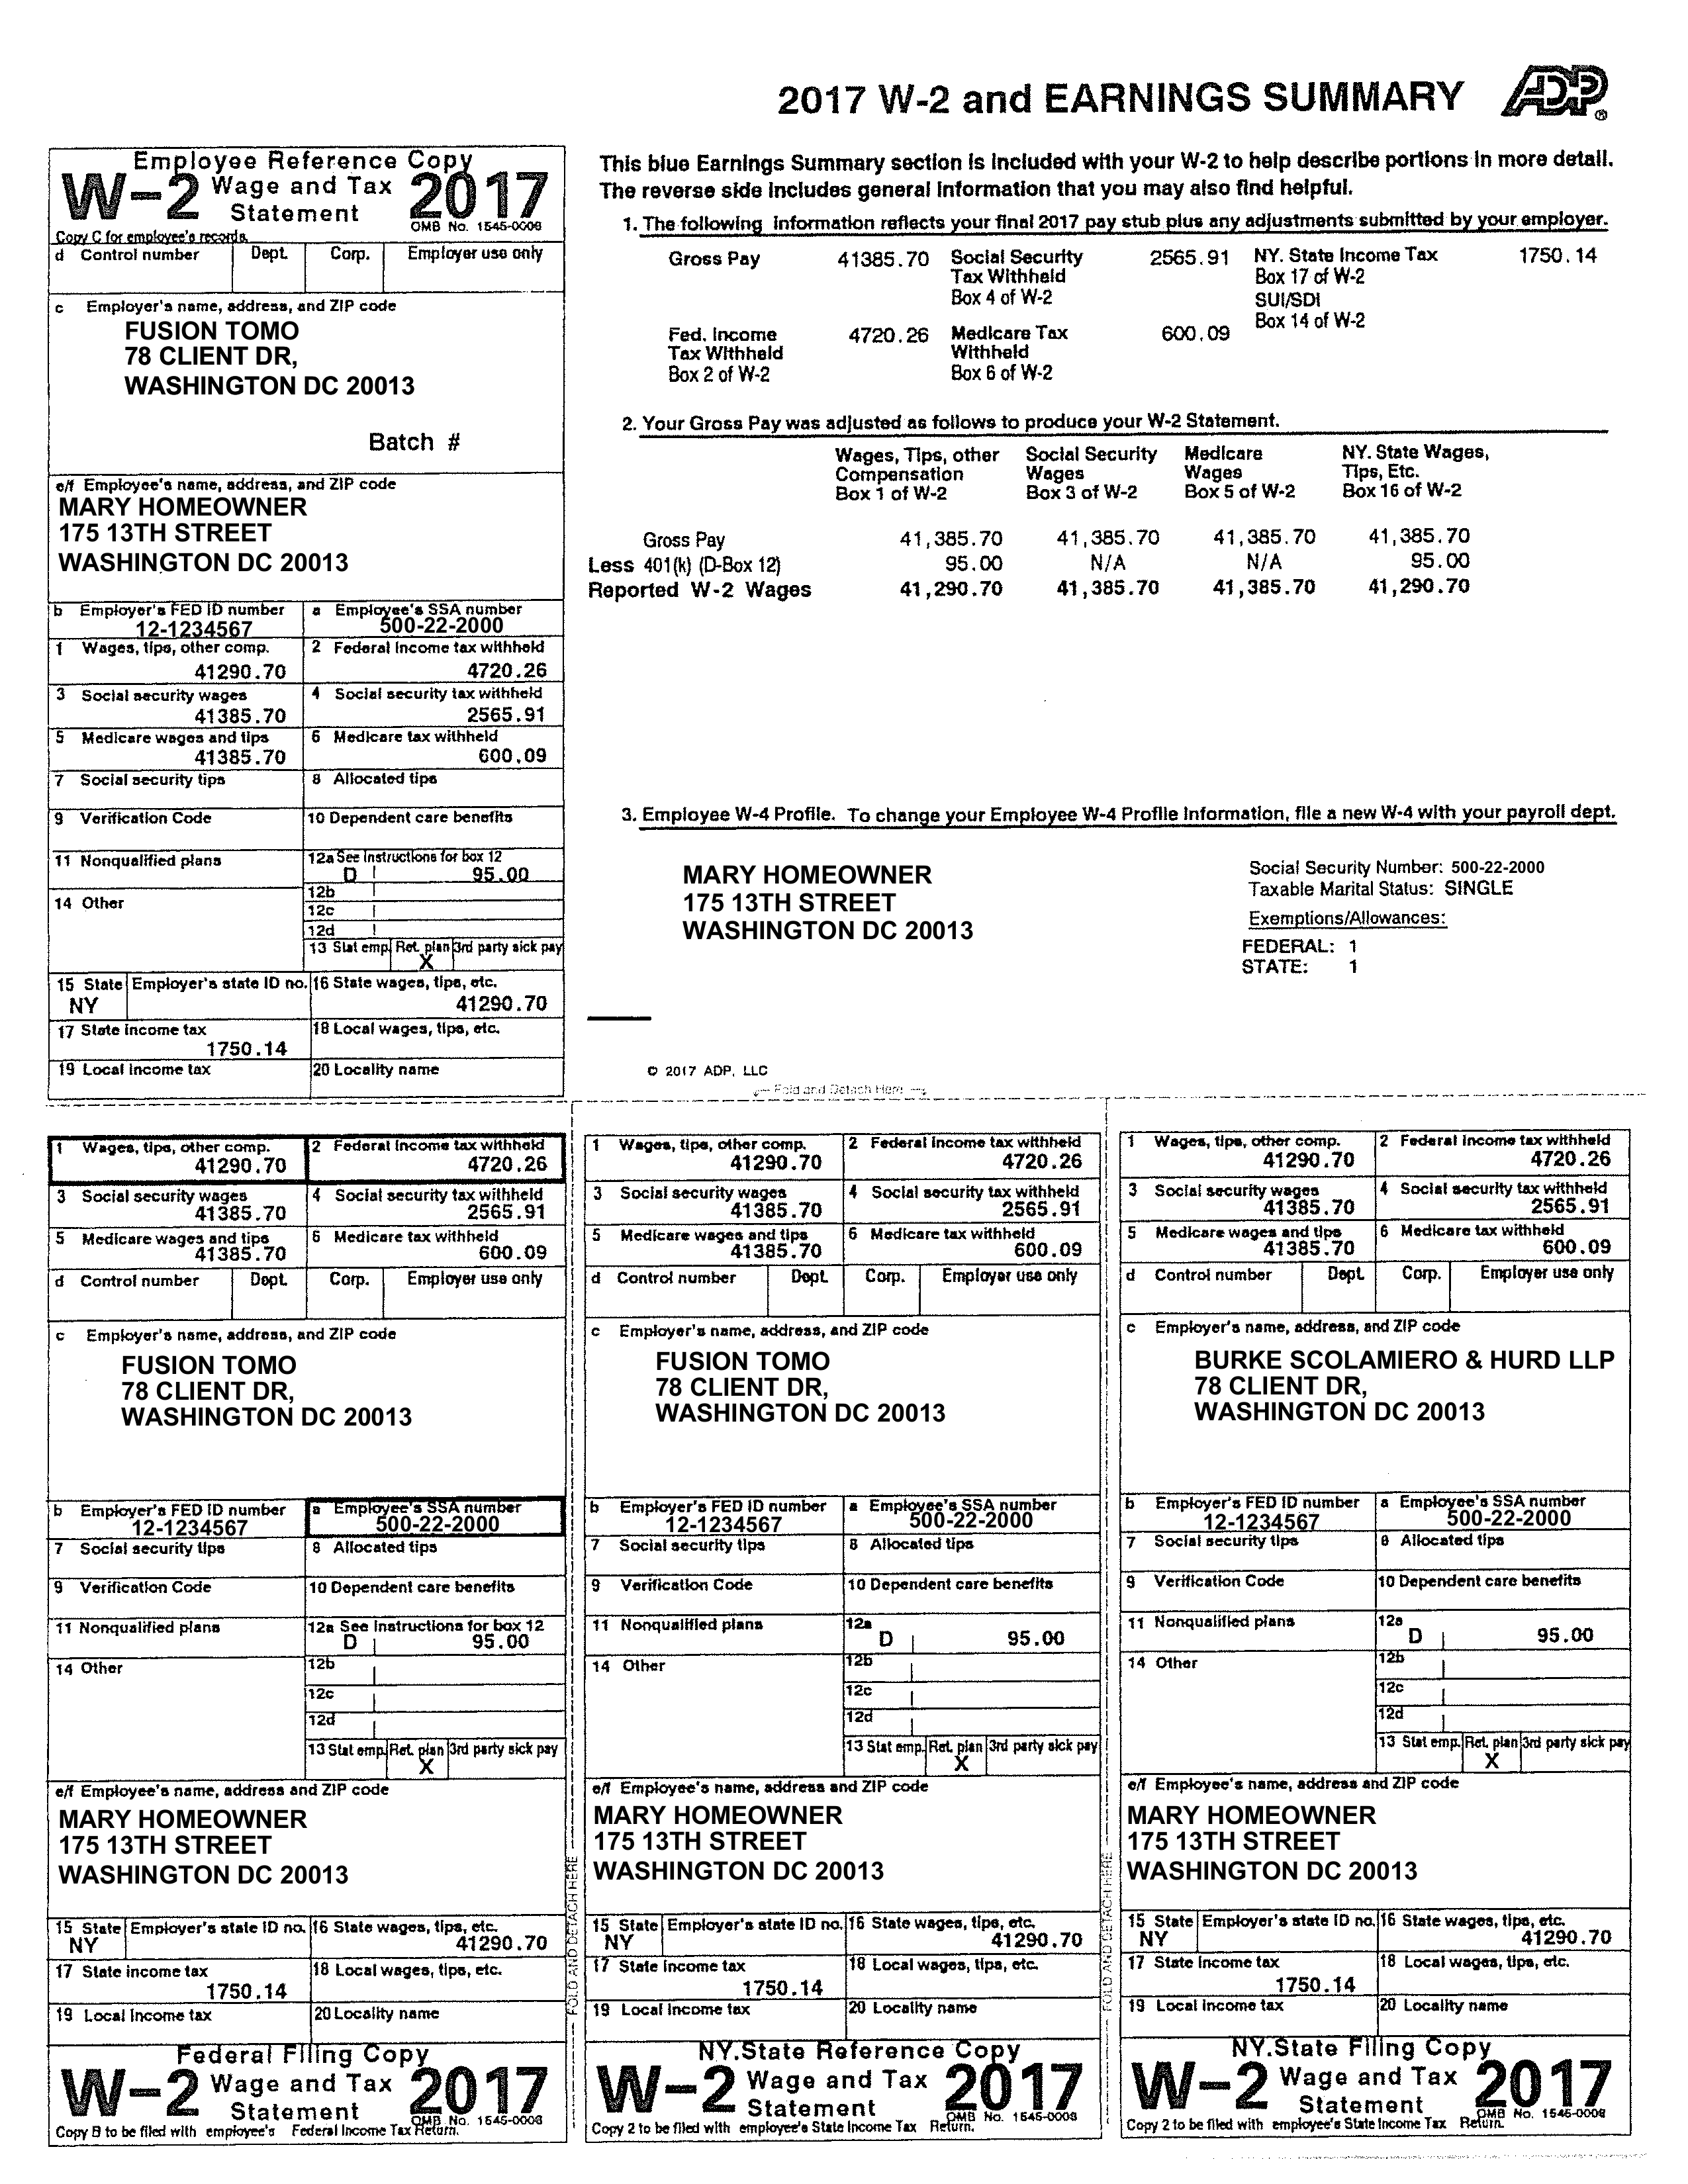table: (583, 1133, 1103, 2140), (50, 1136, 567, 2145), (1117, 1129, 1635, 2138), (50, 145, 564, 1097)
